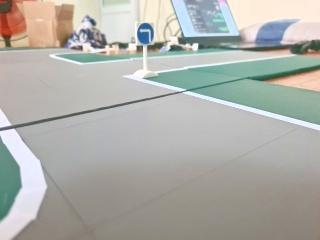left: (133, 21, 156, 46)
